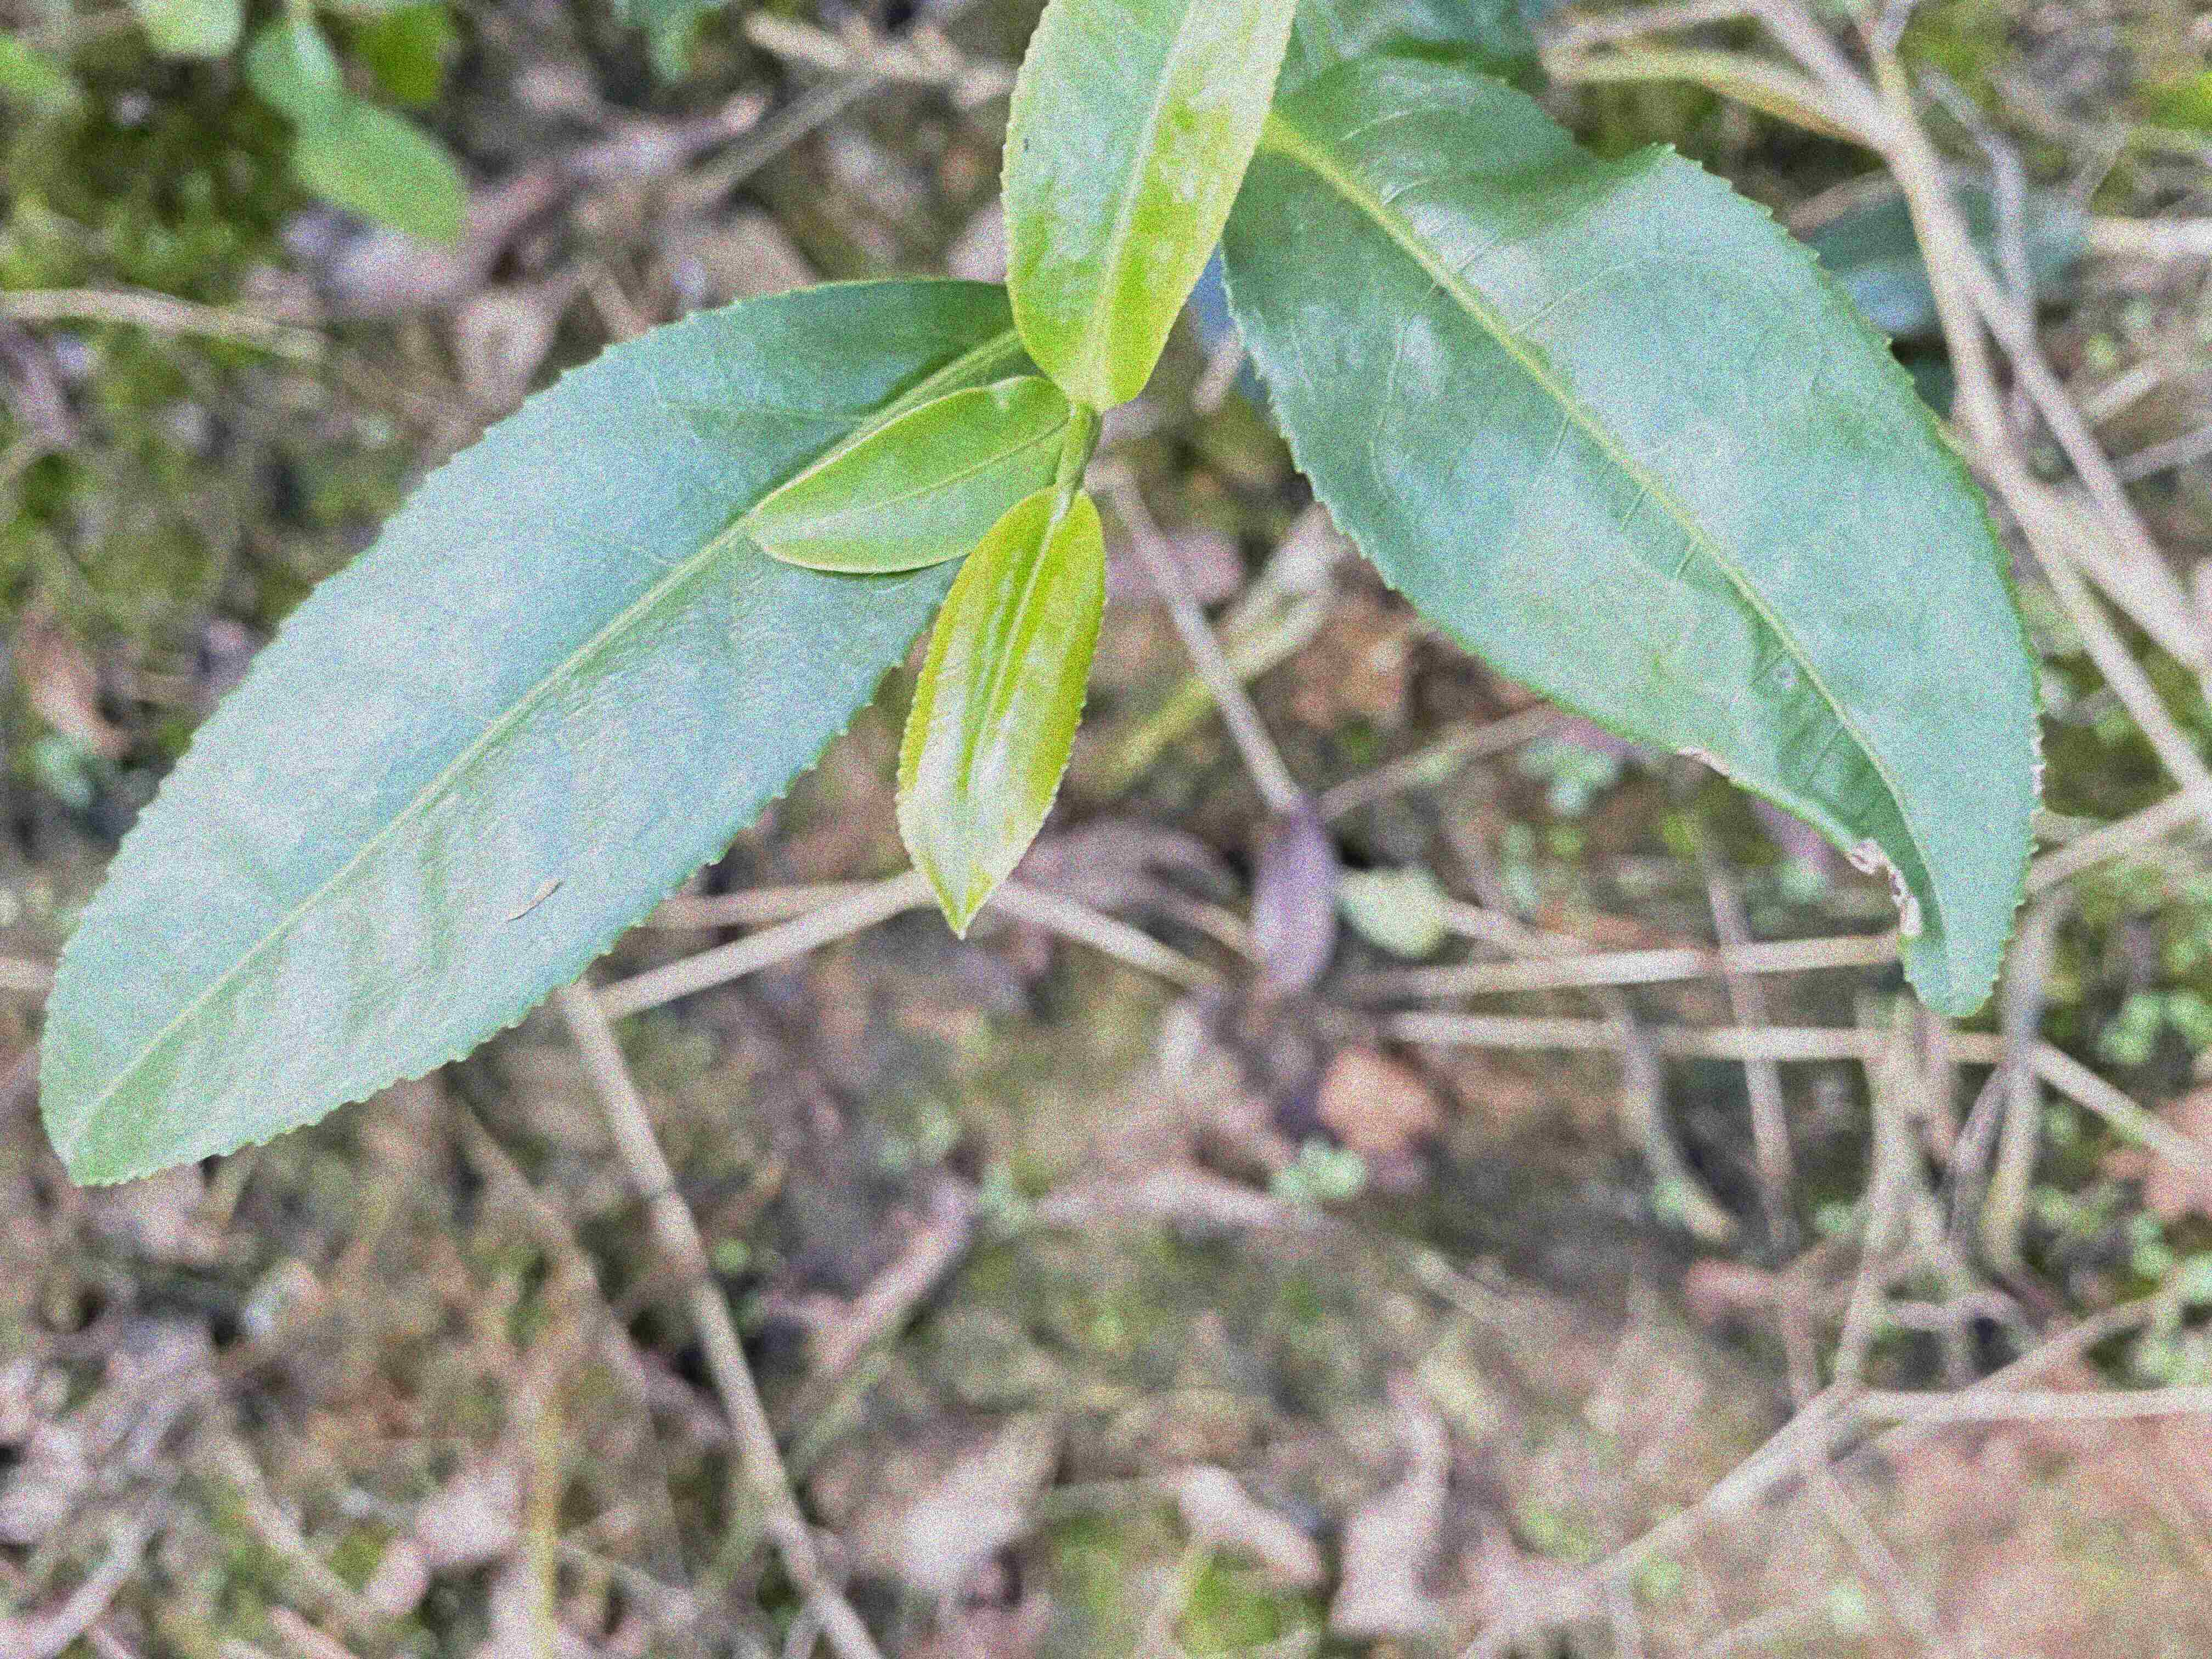healthy: (37, 277, 1012, 1188), (1001, 3, 1296, 411), (894, 486, 1109, 939), (747, 375, 1068, 573)
tanju_low: (1217, 54, 2047, 1016)
